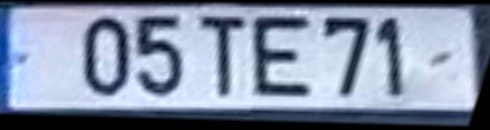0: (80, 13, 132, 99)
1: (373, 16, 406, 100)
5: (131, 13, 188, 100)
7: (321, 14, 373, 104)
E: (249, 14, 315, 101)
T: (197, 13, 251, 103)
